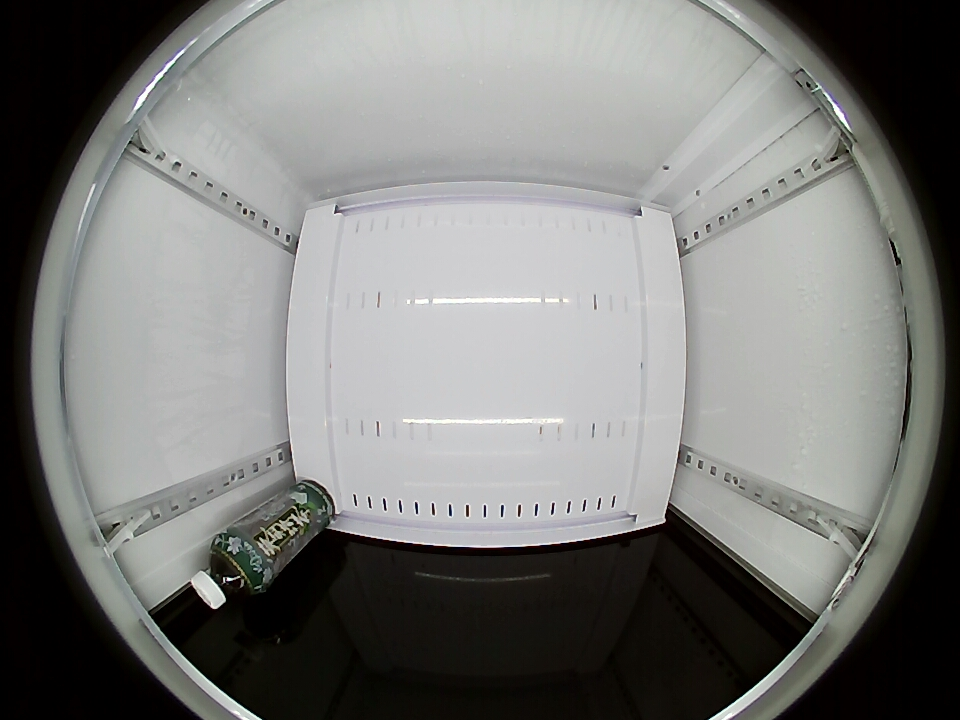moliqingcha: (190, 534, 266, 609)
